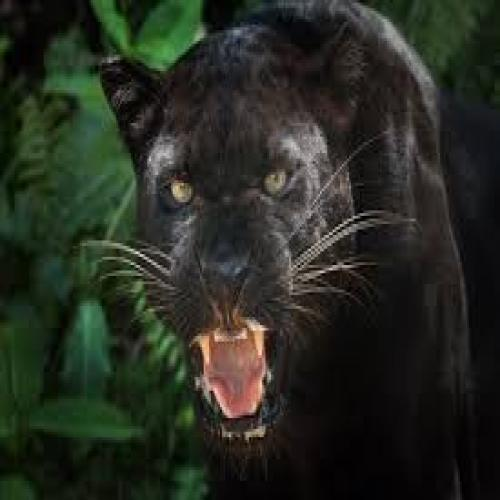panther-endangered: (100, 15, 492, 486)
